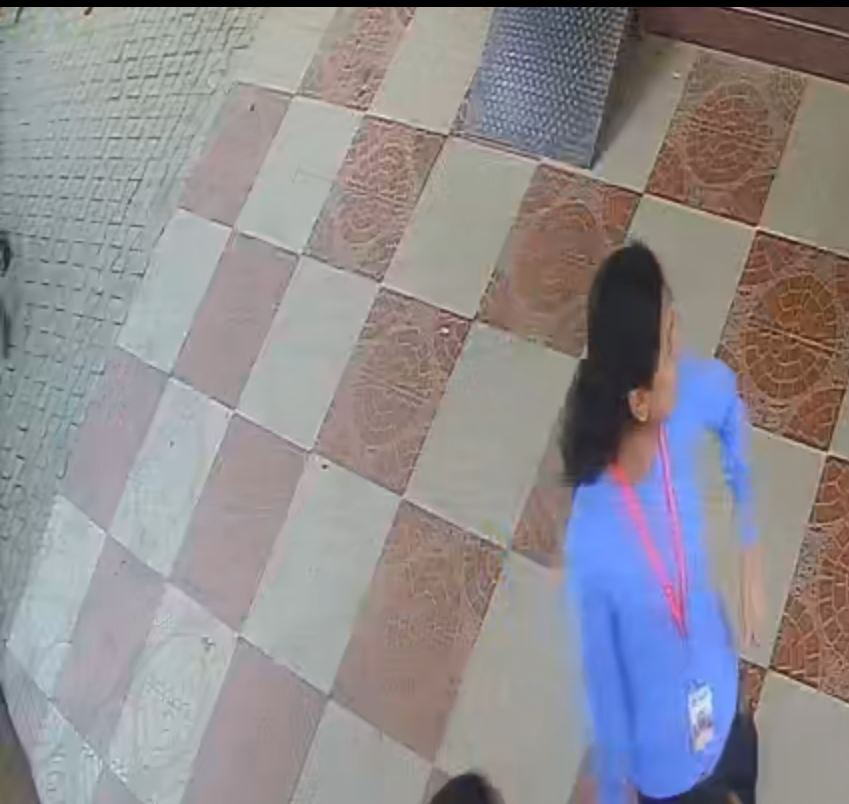not intruder: (564, 251, 779, 804)
